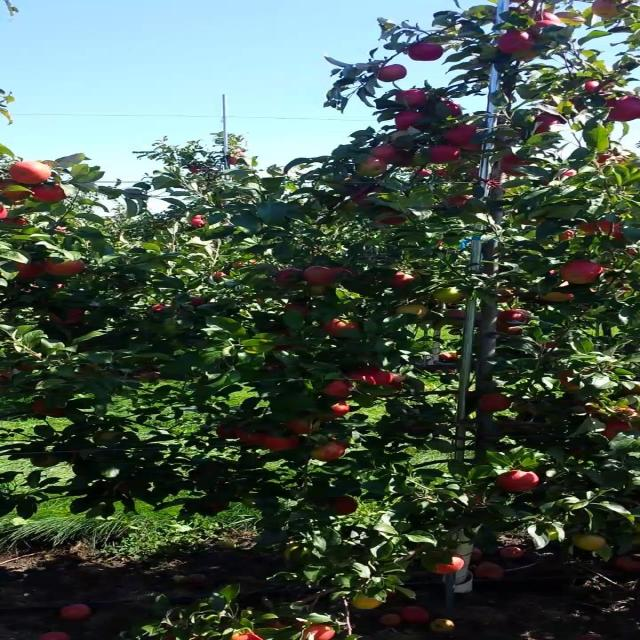apple: (575, 220, 628, 242), (604, 408, 638, 440), (561, 260, 604, 285), (447, 124, 484, 152), (604, 96, 638, 124), (497, 472, 540, 494), (589, 220, 629, 243), (497, 32, 535, 55), (13, 164, 55, 184), (497, 312, 532, 336), (497, 156, 533, 177), (412, 44, 448, 64), (376, 64, 411, 84), (312, 444, 348, 463), (589, 0, 624, 19), (35, 184, 68, 204), (604, 220, 631, 244), (326, 320, 363, 337), (433, 556, 464, 576), (355, 160, 391, 177), (262, 436, 300, 452), (326, 380, 356, 400), (333, 496, 363, 516), (433, 144, 462, 164), (49, 260, 85, 276), (532, 116, 564, 134), (6, 180, 32, 202), (35, 400, 66, 418), (348, 368, 382, 384), (433, 288, 469, 303), (575, 536, 608, 552), (319, 404, 352, 420), (497, 312, 532, 327), (532, 12, 567, 27), (355, 188, 384, 206), (362, 368, 391, 386), (397, 112, 427, 129), (390, 272, 420, 289), (371, 372, 405, 387), (397, 92, 430, 107), (13, 264, 46, 279), (241, 428, 267, 447), (49, 312, 85, 325), (483, 396, 512, 412), (575, 220, 604, 236), (276, 268, 304, 284), (561, 372, 583, 392), (291, 420, 320, 435), (397, 304, 428, 318), (305, 268, 332, 284), (540, 292, 576, 304), (589, 80, 617, 95), (575, 400, 603, 415), (376, 212, 407, 225), (376, 148, 404, 162), (440, 100, 462, 117), (284, 304, 313, 316), (383, 376, 405, 391), (35, 456, 62, 468), (618, 556, 638, 572), (447, 196, 473, 208), (333, 268, 357, 281), (348, 372, 373, 384), (596, 156, 626, 166), (390, 156, 412, 168), (390, 372, 405, 389), (518, 52, 540, 62), (99, 432, 121, 442), (220, 428, 238, 440), (305, 288, 329, 297), (191, 216, 206, 228), (504, 328, 526, 336), (447, 312, 468, 320), (191, 296, 206, 307), (6, 220, 28, 227), (561, 232, 578, 241), (561, 232, 576, 241), (419, 168, 434, 177), (561, 172, 576, 179), (156, 304, 169, 312), (547, 344, 560, 349), (397, 132, 407, 136)
